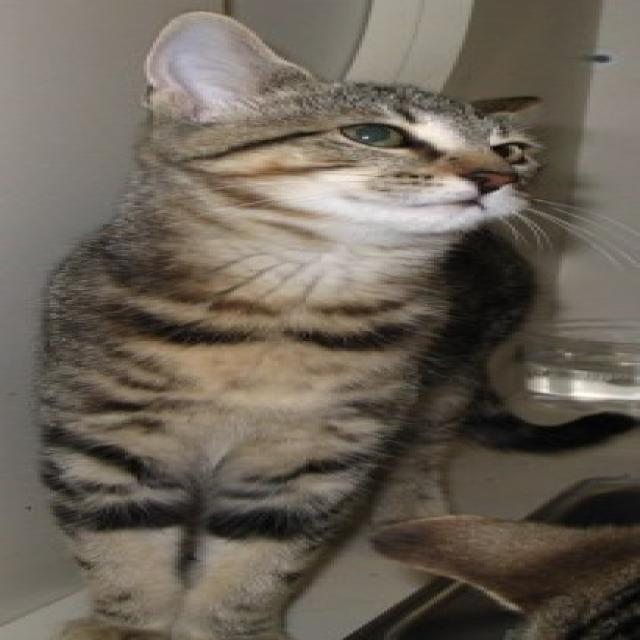Cats: (28, 10, 637, 639)
